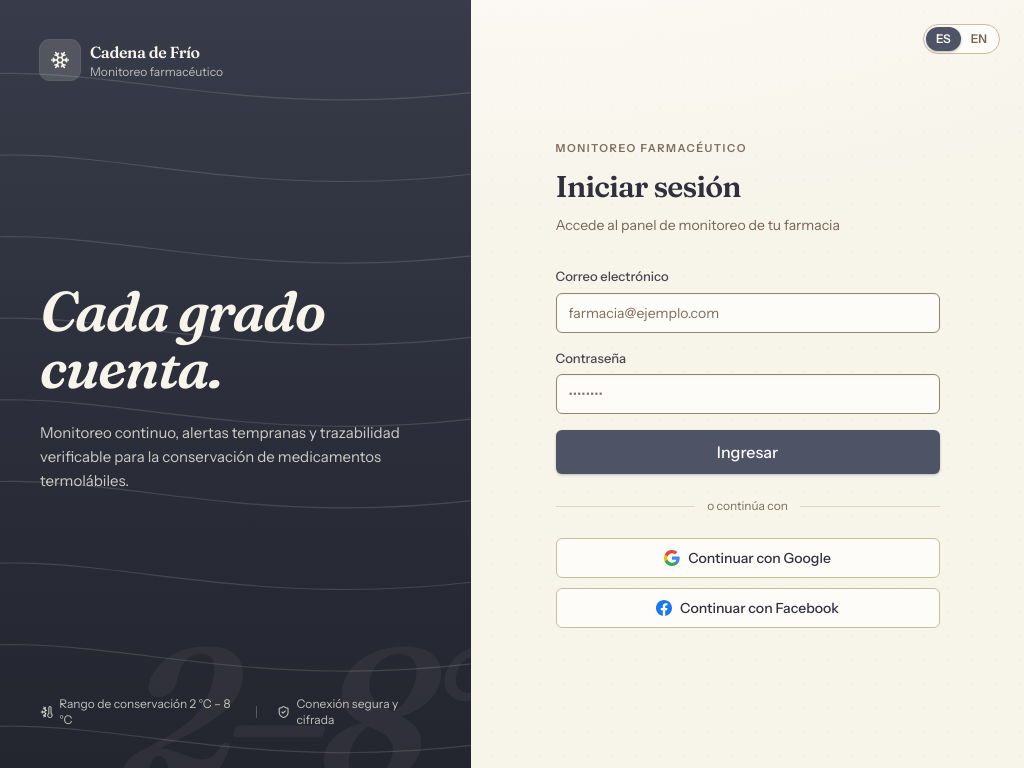
it: LoginPage › con credenciales incorrectas muestra el error y no navega
Type "farmaceutico@upc.pe" into the field labelled "Correo electrónico" at (748, 313), box [556,293,940,333]
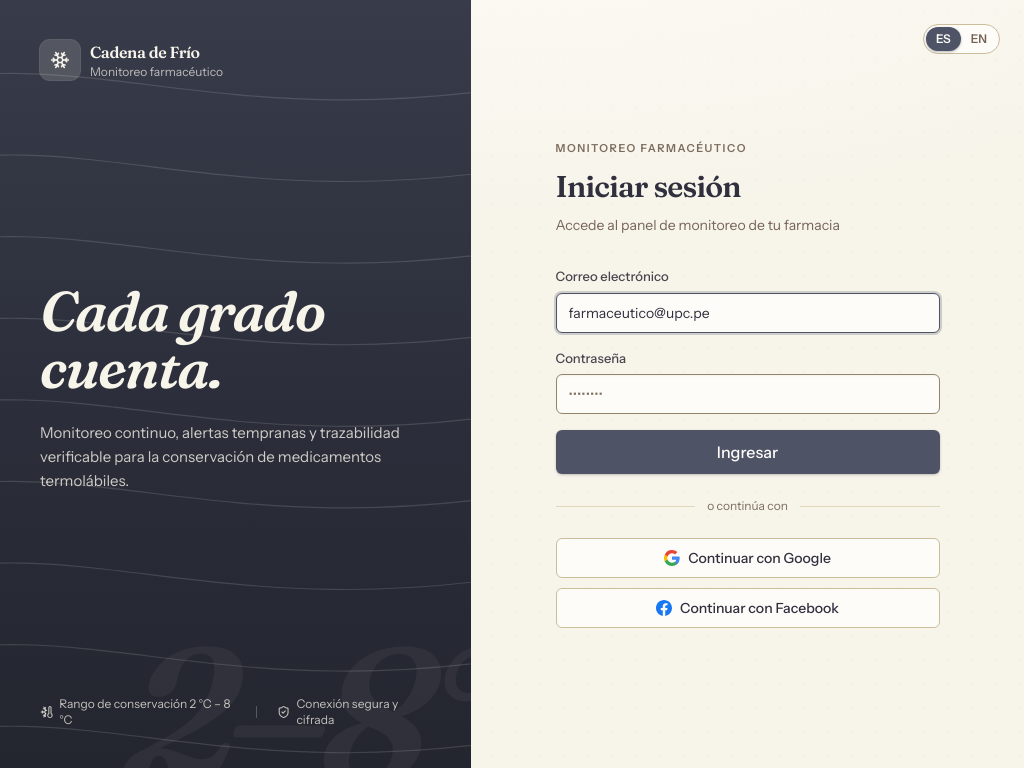
Type "incorrecta" into the password field labelled "Contraseña" at (748, 394), box [556,374,940,414]
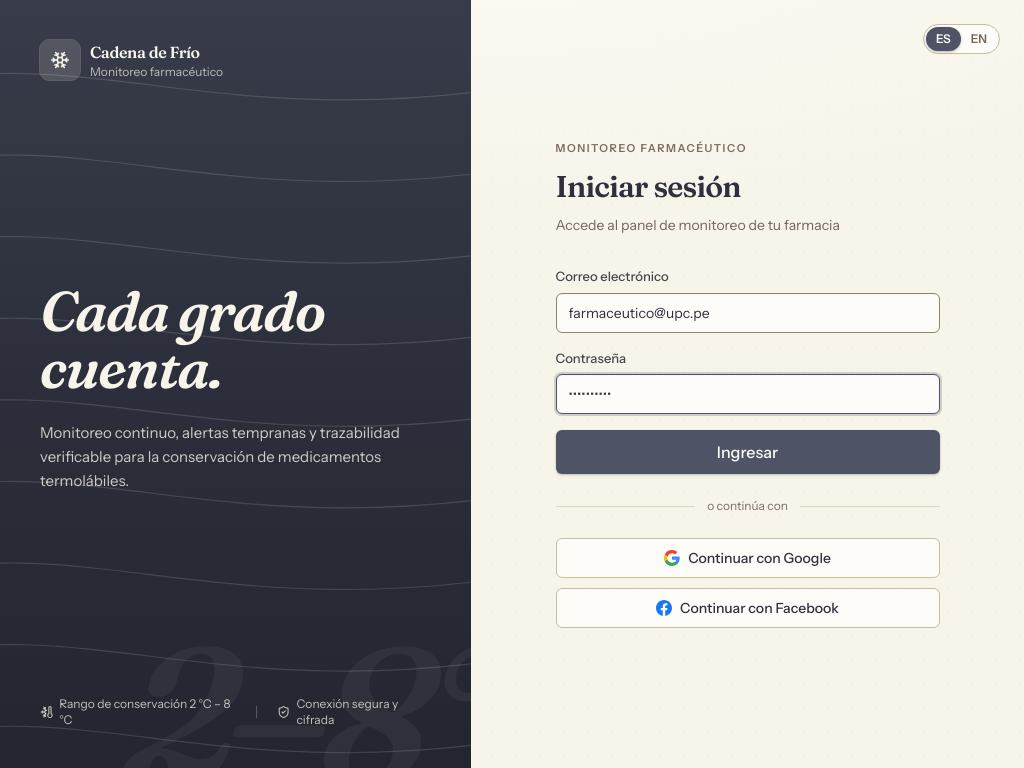
Click the button "Ingresar" at (748, 452), box [556,430,940,474]
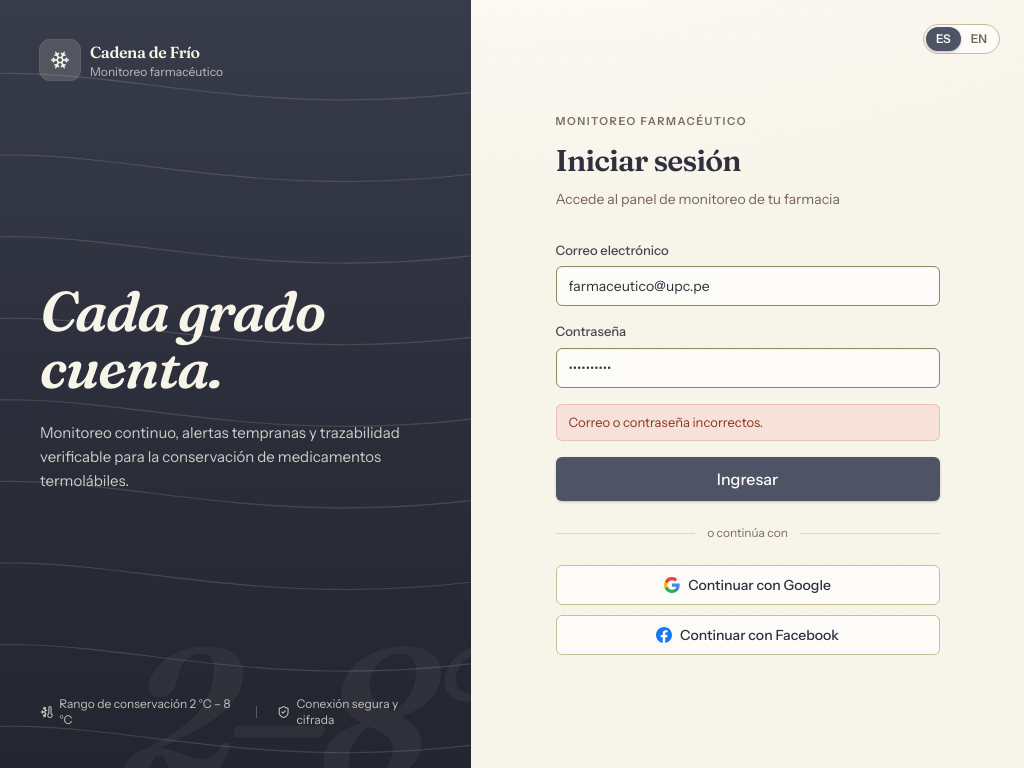
Check: the message reads "Correo o contraseña incorrectos.", box [568,414,763,430]
